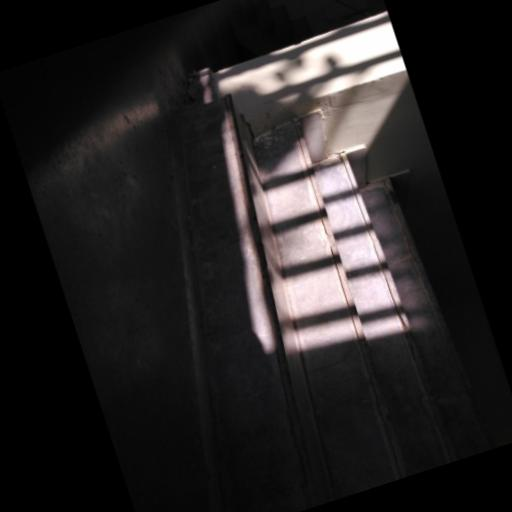stairs: (177, 96, 491, 511), (225, 0, 369, 57)
